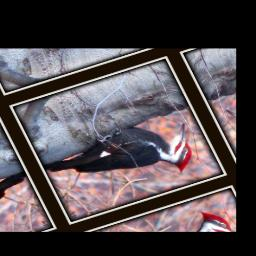Woodpecker: (33, 103, 206, 210)
